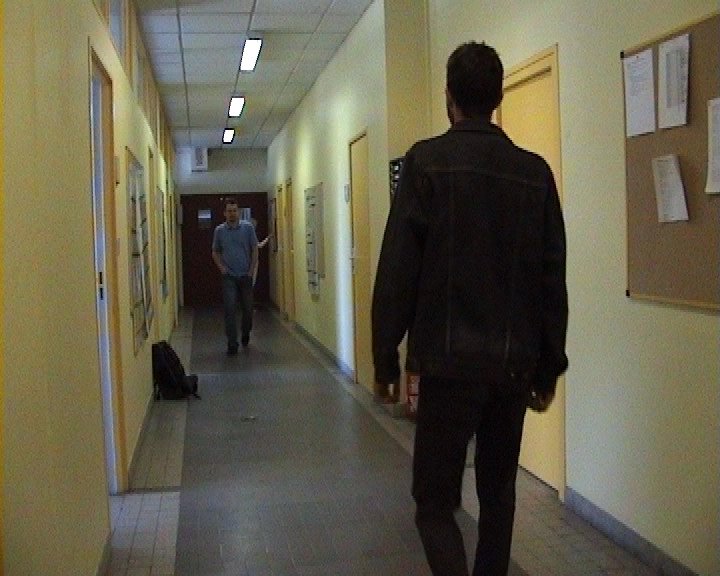leave bag unattended: (136, 329, 241, 427)
